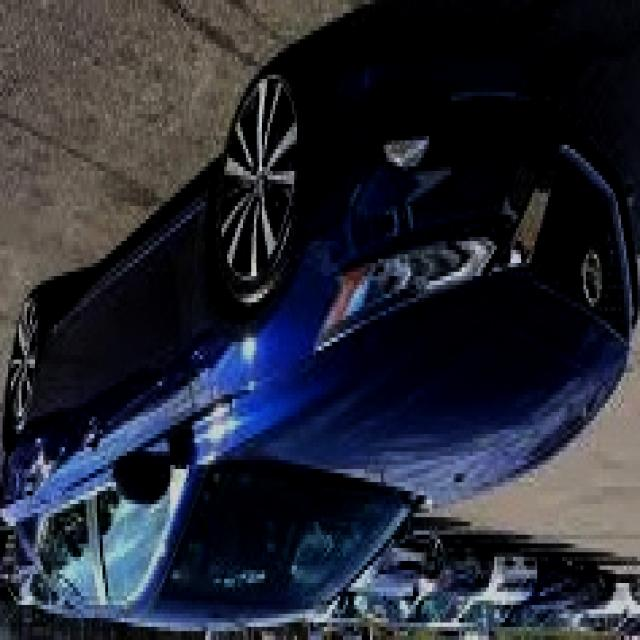blue: (0, 54, 638, 632)
